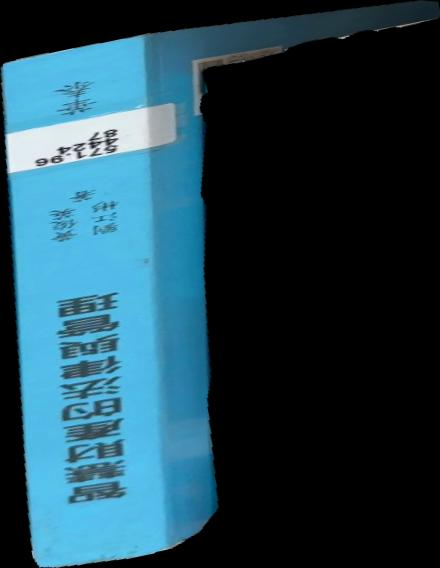reverse: (1, 1, 440, 568)
